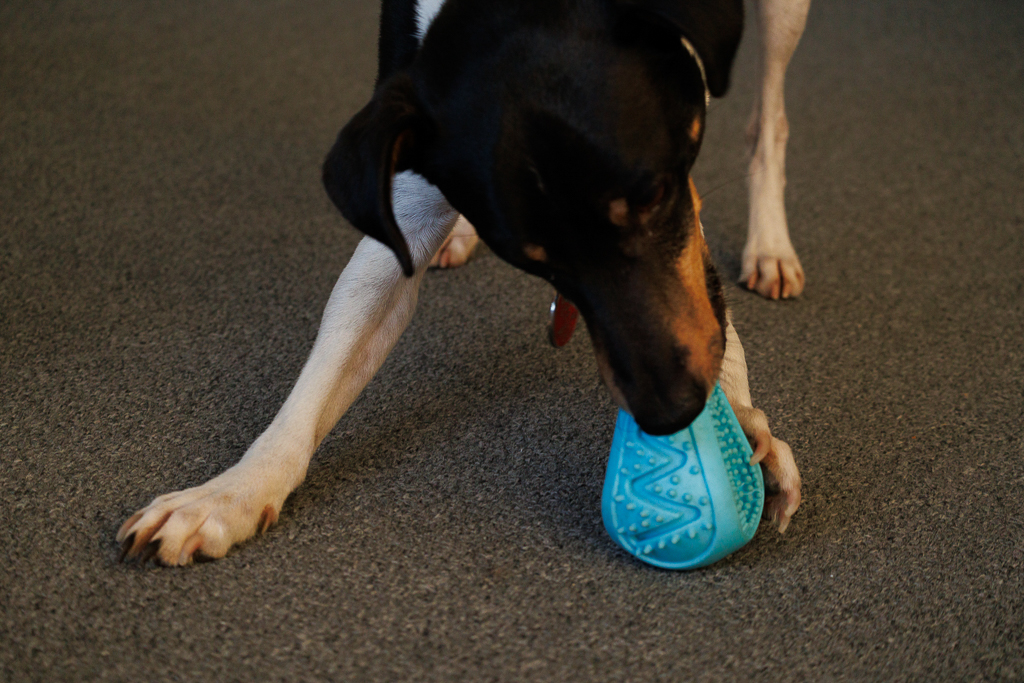Dog: (101, 0, 823, 579)
